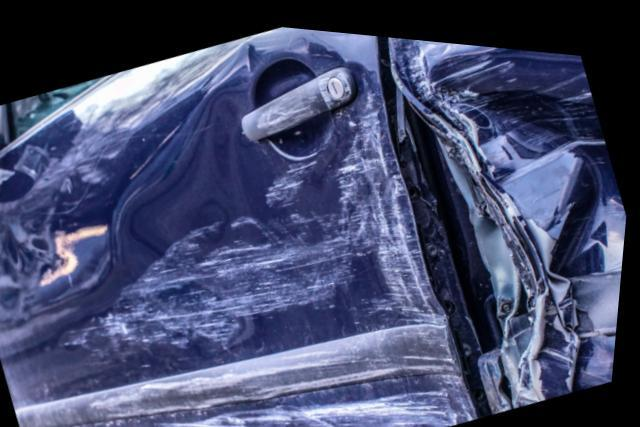dent: (106, 80, 365, 345), (395, 30, 629, 323)
scratch: (65, 78, 487, 427), (466, 38, 591, 79), (587, 342, 619, 377)
